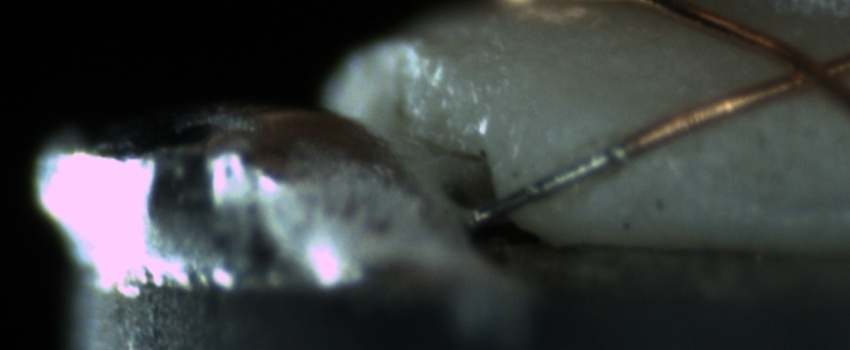CL: (760, 37, 848, 103)
TS: (467, 143, 629, 222)
